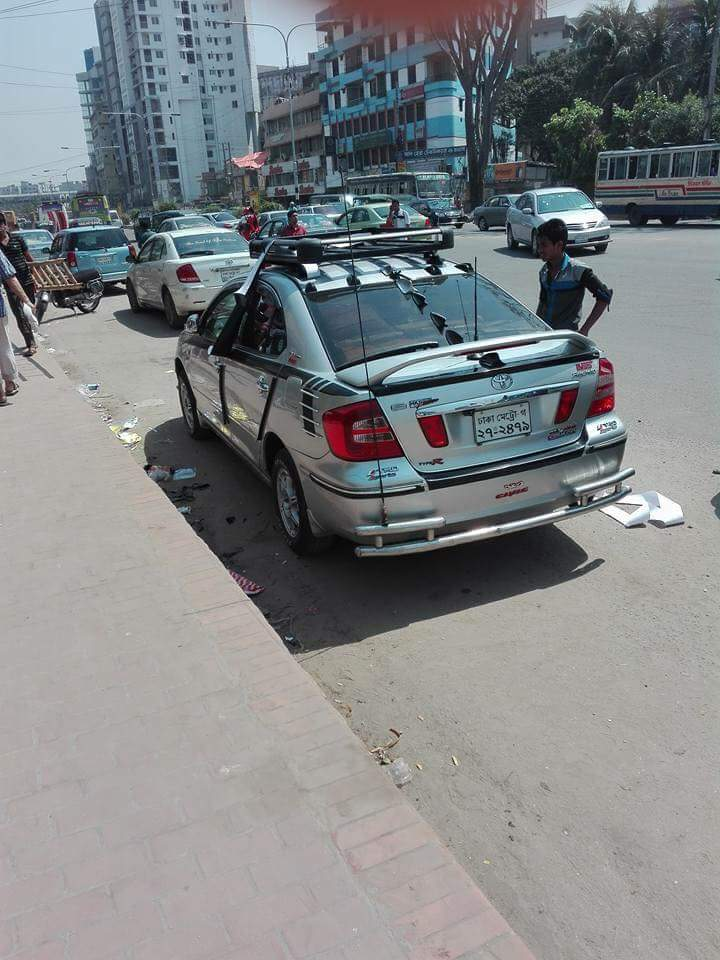registration_plate: (473, 401, 531, 443)
